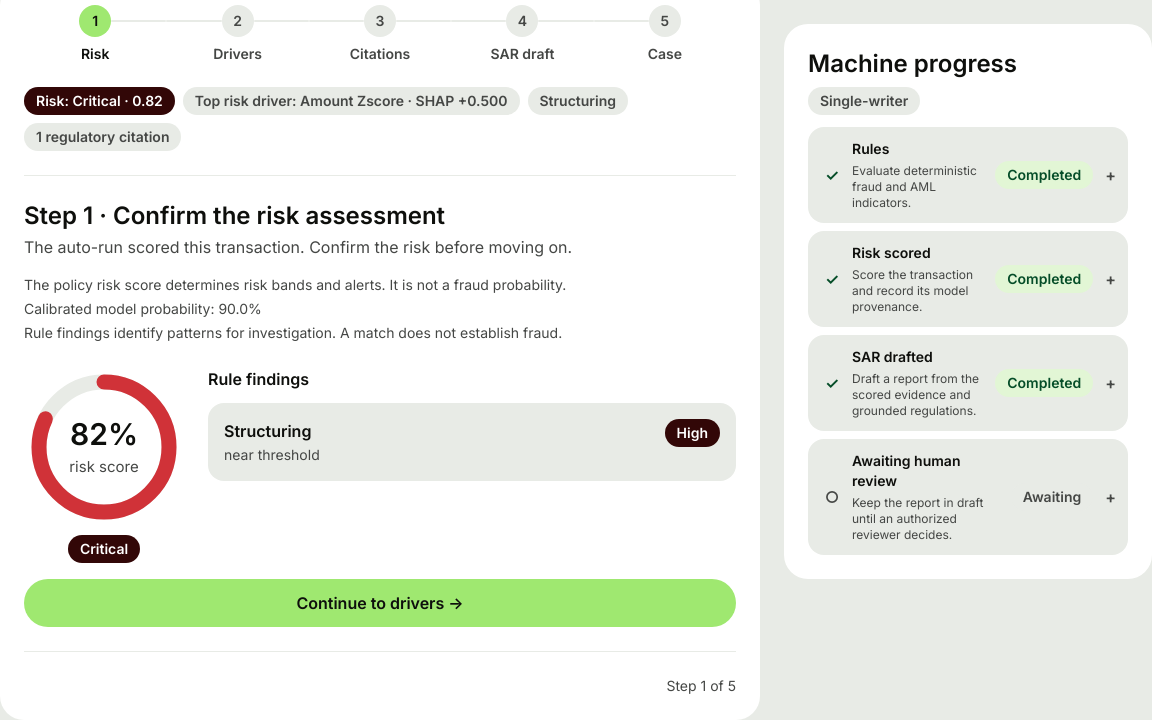
it: Investigation wizard › steps back to the previous evidence
The image size is (1152, 720).
(page scrolled)
Click the button "Continue to drivers →" at (380, 603), box [24,579,736,627]
(page scrolled)
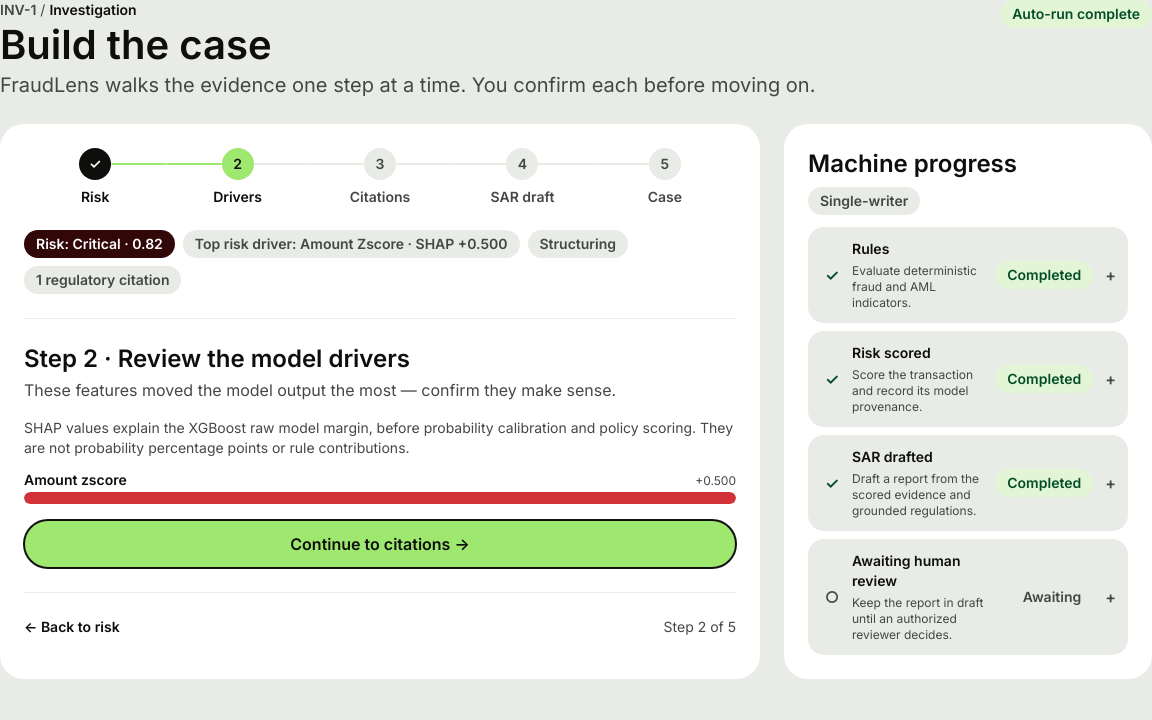
Now the heading "Step 2 · Review the model drivers" is shown, box [24,344,410,372]
Click the button "← Back to risk" at (72, 627), box [24,617,120,637]
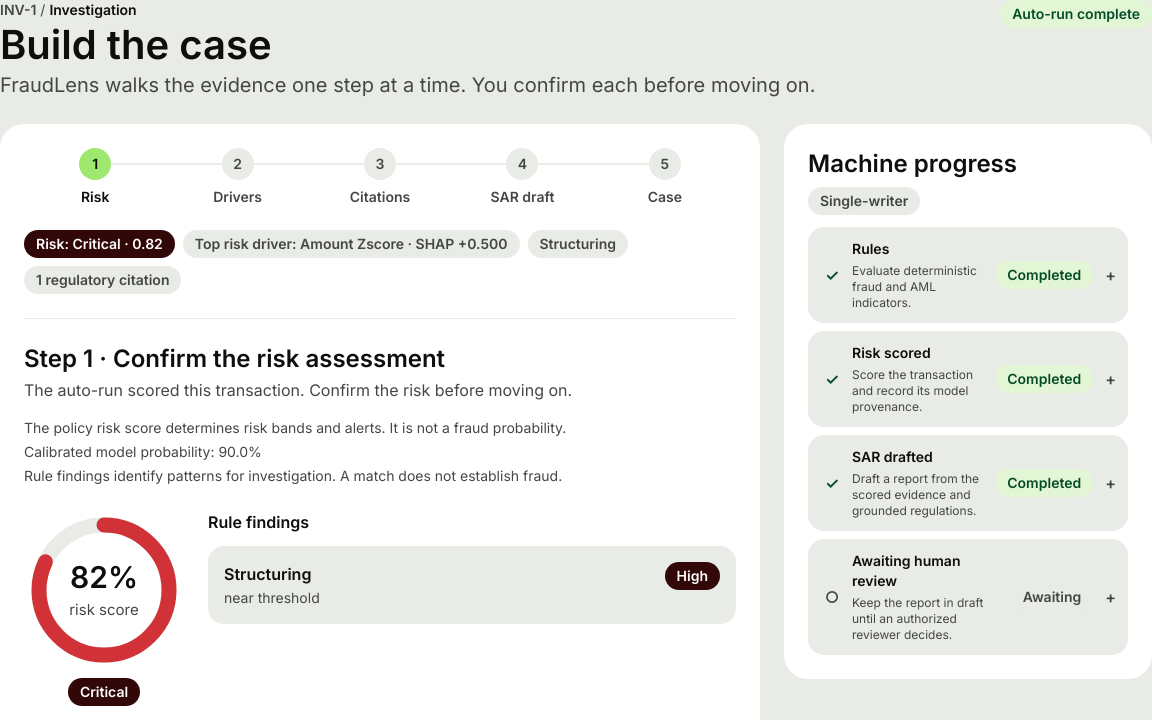
Now the heading "Step 1 · Confirm the risk assessment" is shown, box [24,344,445,372]
